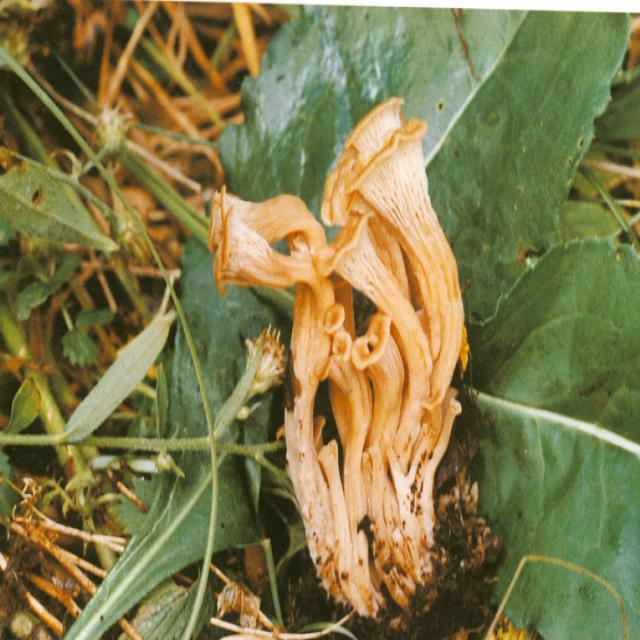Cantharellus cibarius: (208, 97, 485, 615)
